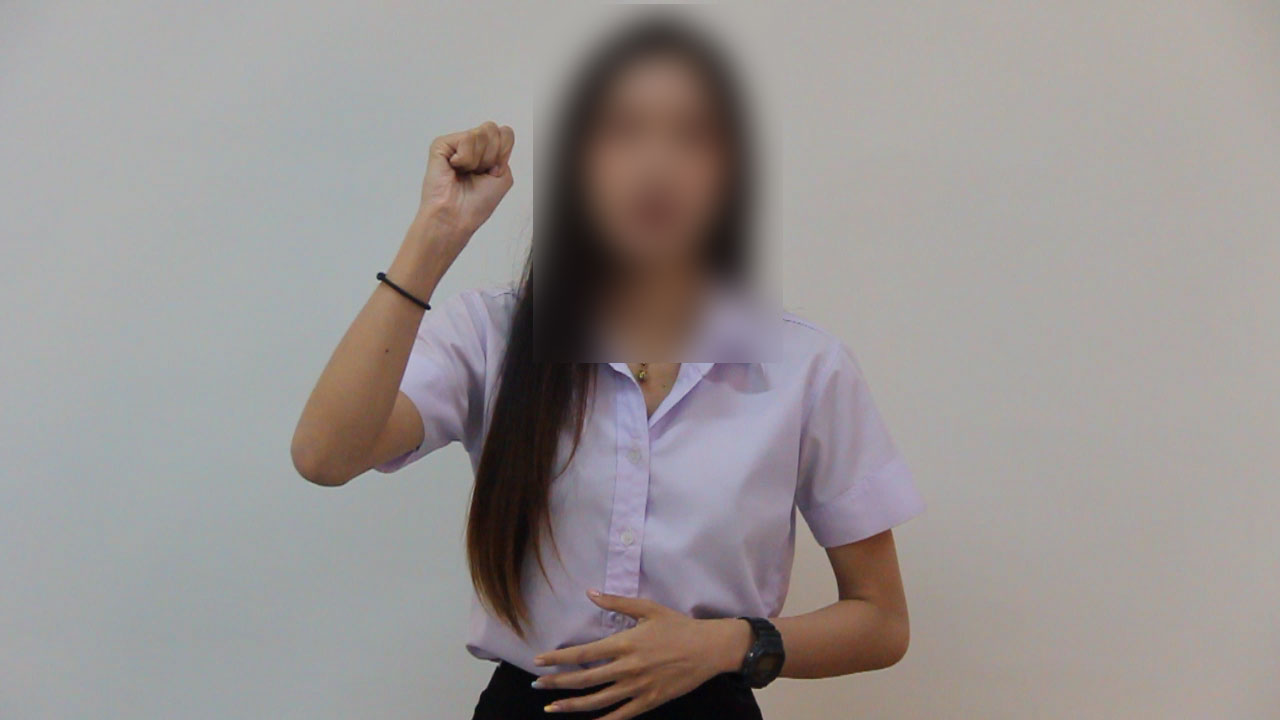sor: (403, 107, 528, 256)
